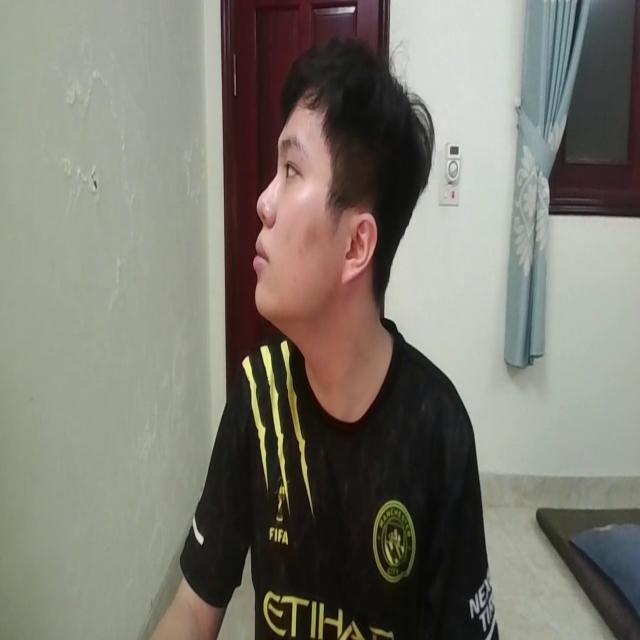student: (138, 30, 500, 640)
